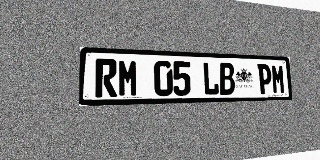0: (154, 60, 173, 96)
5: (173, 61, 191, 96)
B: (219, 63, 235, 95)
L: (202, 62, 219, 95)
M: (118, 59, 138, 97), (271, 64, 285, 94)
P: (257, 64, 272, 94)
R: (95, 58, 117, 97)
